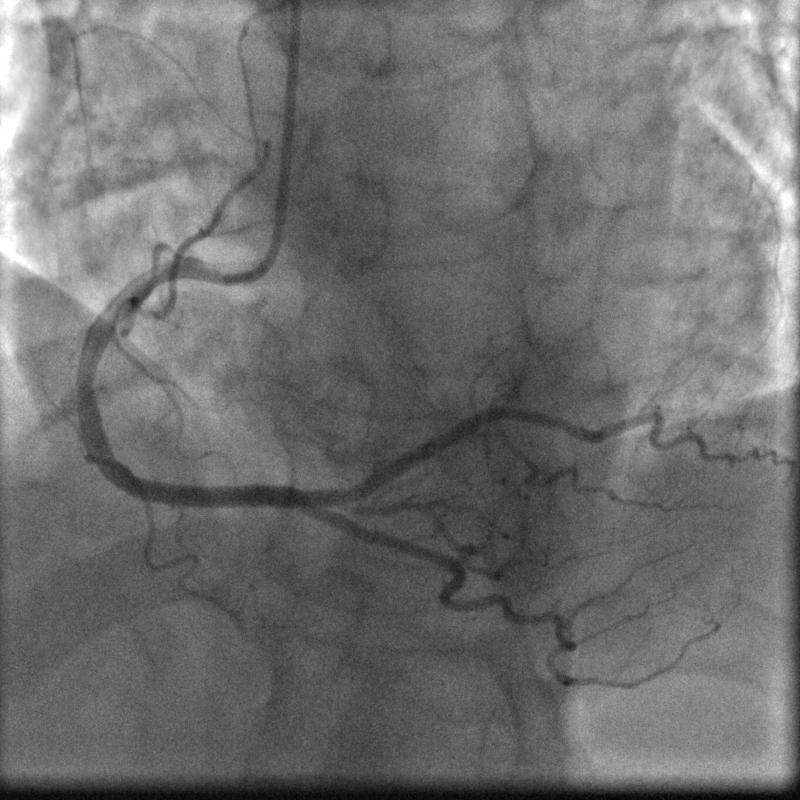Stenosis: (66, 362, 102, 410)
